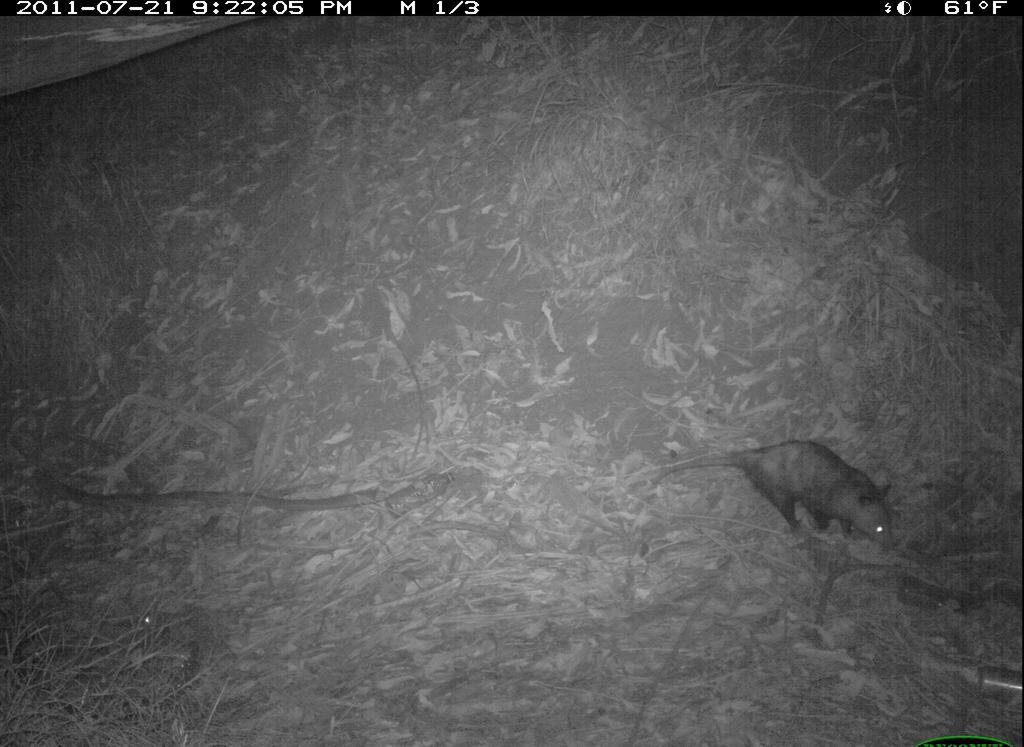opossum: (620, 428, 904, 562)
